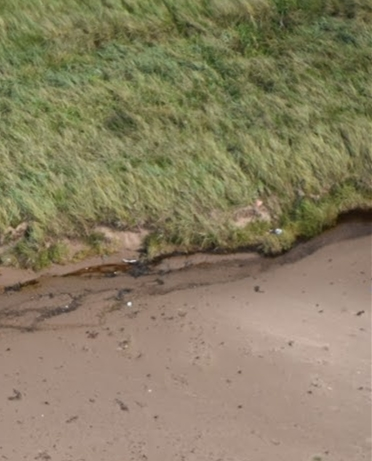scattered_barrel: (241, 184, 292, 239)
white_in_green: (110, 287, 148, 321)
